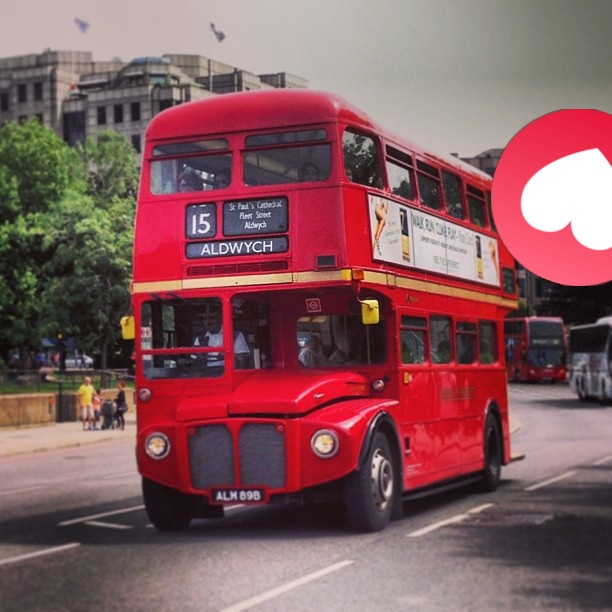love: (491, 109, 612, 286)
